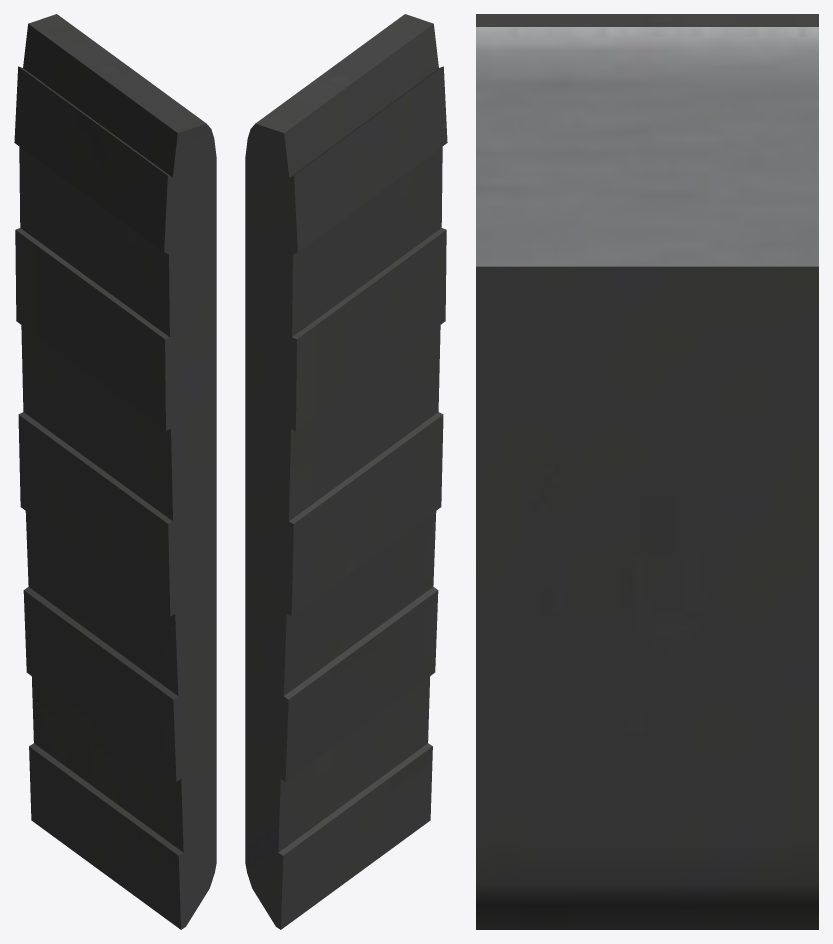
Rendered from Kabza_Plastik_V1.glb.
3 renders of one model, left to right at view 1: azimuth 30°, elevation 25°; view 2: azimuth 150°, elevation 25°; view 3: azimuth 270°, elevation 25°, orthographic. The views are drawn at different scales.
Visible parts, largest first — view 1: Kabza_Plastik; view 2: Kabza_Plastik; view 3: Kabza_Plastik.
Part boxes in pixels (x1,y1,x2,y2): Kabza_Plastik: (14, 14, 216, 929); Kabza_Plastik: (245, 14, 447, 929); Kabza_Plastik: (476, 14, 818, 929).
Bounding box in the file's own units: 0.0391 × 0.5714 × 0.1938.
2 materials, 2 textured.
